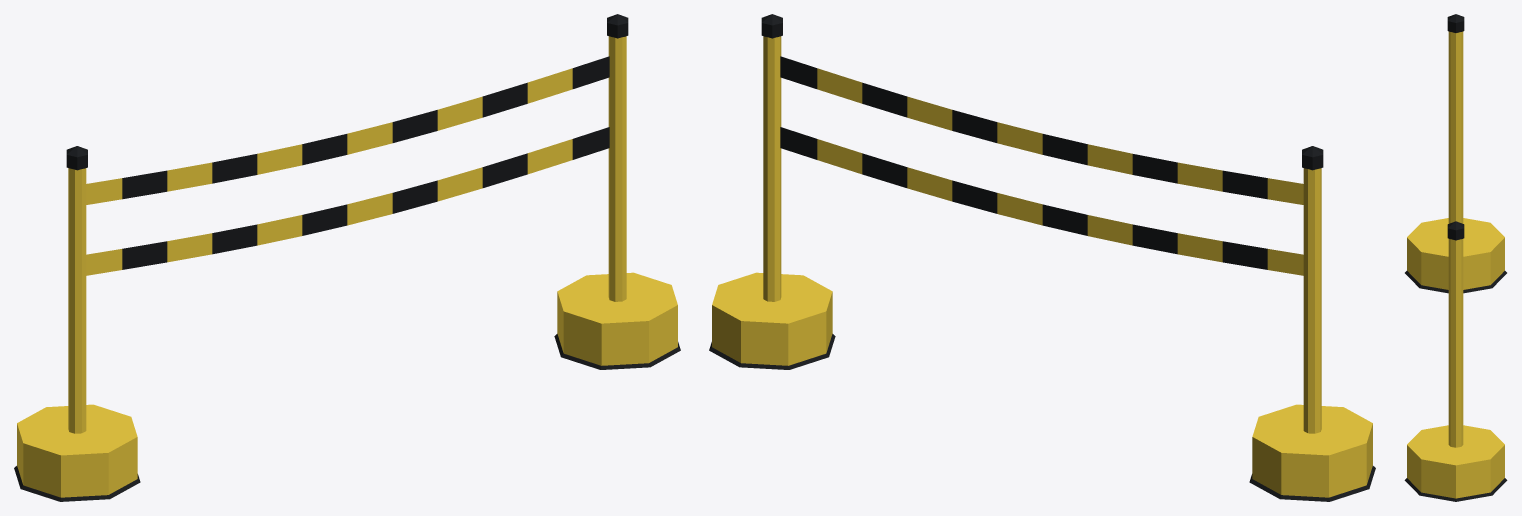
Rendered from police_tape.glb.
3 views of the same model, side by side, from view 1: azimuth 30°, elevation 25°; view 2: azimuth 150°, elevation 25°; view 3: azimuth 270°, elevation 25° (orthographic). The views are drawn at different scales.
Parts seen in each view (by area): view 1: Body; view 2: Body; view 3: Body.
Boxes of the visible parts, x1=… form: Body: x1=14, y1=14, x2=680, y2=501; Body: x1=709, y1=14, x2=1375, y2=501; Body: x1=1404, y1=14, x2=1507, y2=501.
Size of the model in its own units: 2.42 by 1.16 by 0.42.
